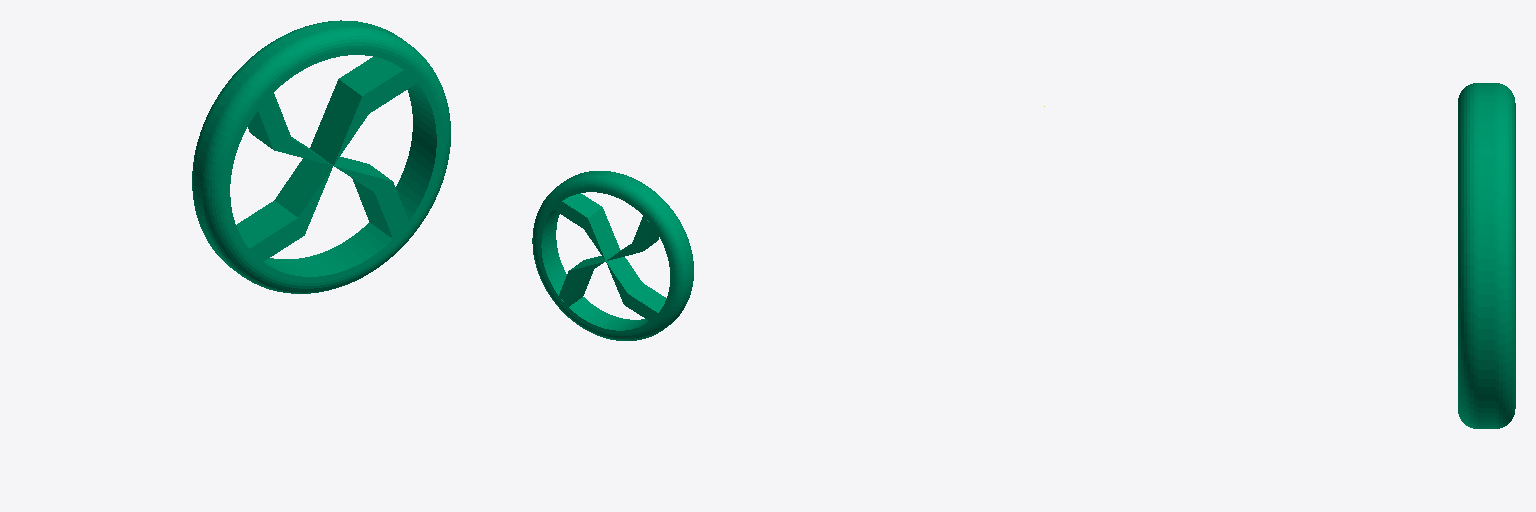
URDF robot description (maze_bot):
<?xml version="1.0"?>
<robot name="maze_bot">

    <material name="gray">
        <color rgba="0.9921568627450981 0.9921568627450981 0.996078431372549 1.0" />
    </material>
    
    <material name="black">
        <color rgba="0.027450980392156862 0.050980392156862744 0.050980392156862744 1.0" />
    </material>

    <link name="base_footprint" />

    <link name="base">
        <inertial>
            <mass value="5" />
            <origin xyz="0.0 0.0 0.0" rpy="0.0 0.0 0.0" />
            <inertia ixx="0.004" ixy="0.001" ixz="0" iyy="0.006" iyz="0" izz="0.007" />
        </inertial>

        <visual>
            <geometry>
                <mesh filename="package://ros2_path_planning/meshes/Base.stl" />
            </geometry>
            <material name="gray" />
        </visual>

        <collision>
            <geometry>
                <mesh filename="package://ros2_path_planning/meshes/Base.stl" />
            </geometry>
            <contact_coefficients mu="0" kp="1000.0" kd="1.0" />
        </collision>
    </link>

    <joint name="base_joint" type="fixed">
        <parent link="base_footprint" />
        <child link="base" />
        <origin xyz="0.0 0.0 0.03" rpy="0.0 0.0 0.0" />
    </joint>

    <link name="right_wheel">
        <inertial>
            <mass value="1" />
            <inertia ixx="100" ixy="0" ixz="100" iyy="100" iyz="0" izz="100" />
        </inertial>

        <visual>
            <geometry>
                <mesh filename="package://ros2_path_planning/meshes/Wheel_R.stl" />
                <material name="black" />
            </geometry>
        </visual>

        <collision>
            <geometry>
                <mesh filename="package://ros2_path_planning/meshes/Wheel_R.stl" />
            </geometry>
            <contact_coefficients mu="0" kp="1000.0" kd="1.0" />
        </collision>
    </link>

    <joint name="wheel_right_joint" type="continuous">
        <origin xyz="0.02 0.024 0.0" rpy="0.0 0.0 0.0" />
        <parent link="base" />
        <child link="right_wheel" />
        <axis xyz="0.0 1.0 0.0" />
    </joint>

    <link name="left_wheel">
        <inertial>
            <mass value="1" />
            <inertia ixx="100" ixy="0" ixz="100" iyy="100" iyz="0" izz="100" />
        </inertial>

        <visual>
            <geometry>
                <mesh filename="package://ros2_path_planning/meshes/Wheel_L.stl" />
                <material name="black" />
            </geometry>
        </visual>

        <collision>
            <geometry>
                <mesh filename="package://ros2_path_planning/meshes/Wheel_L.stl" />
            </geometry>
            <contact_coefficients mu="0" kp="1000.0" kd="1.0" />
        </collision>
    </link>

    <joint name="wheel_left_joint" type="continuous">
        <origin xyz="0.02 -0.03 0.0" rpy="0.0 0.0 0.0" />
        <parent link="base" />
        <child link="left_wheel" />
        <axis xyz="0.0 1.0 0.0" />
    </joint>

    <link name="caster">
        <inertial>
            <mass value="1" />
            <inertia ixx="100" ixy="0" ixz="100" iyy="100" iyz="0" izz="100" />
        </inertial>

        <visual>
            <geometry>
                <mesh filename="package://ros2_path_planning/meshes/Caster.stl" />
                <material name="black" />
            </geometry>
        </visual>

        <collision>
            <origin xyz="0.0 0.0 0.0" rpy="0.0 0.0 0.0" />
            <geometry>
                <mesh filename="package://ros2_path_planning/meshes/Caster.stl" />
            </geometry>
            <contact_coefficients mu="0" kp="1000.0" kd="1.0" />
        </collision>
    </link>

    <joint name="caster_joint" type="continuous">
        <origin xyz="-0.035 0.0 -0.017" rpy="0.0 0.0 0.0" />
        <parent link="base" />
        <child link="caster" />
        <axis xyz="0.0 0.0 1.0" />
    </joint>

</robot>

--- What the picture shows (computed from the rendered views, not written in the file) ---
Views: 3 orthographic renders of the robot side by side, from view 1: azimuth 30°, elevation 25°; view 2: azimuth 150°, elevation 25°; view 3: azimuth 270°, elevation 25°.
Model maze_bot with 5 links and 4 joints (3 continuous, 1 fixed), rooted at base_footprint, posed every joint at zero.
Links seen in each view (by area): view 1: right_wheel; view 2: right_wheel; view 3: right_wheel.
Link boxes in pixels (<box>): right_wheel: <box>192,20,450,293</box>; right_wheel: <box>532,171,693,340</box>; right_wheel: <box>1458,83,1515,428</box>.
Bounding box of the posed robot: 96.07 × 57.05 × 41.97 m (x, y, z).
4 mesh visuals loaded from 4 distinct referenced files (4 binary STL).